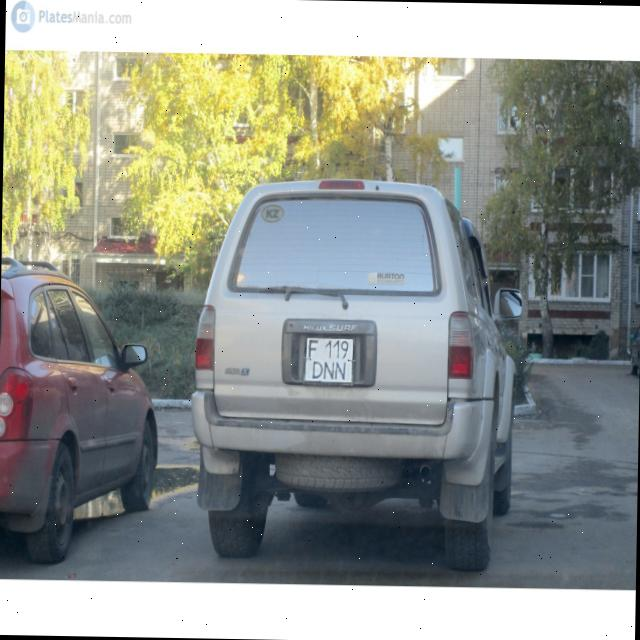License-plate: (306, 336, 356, 382)
